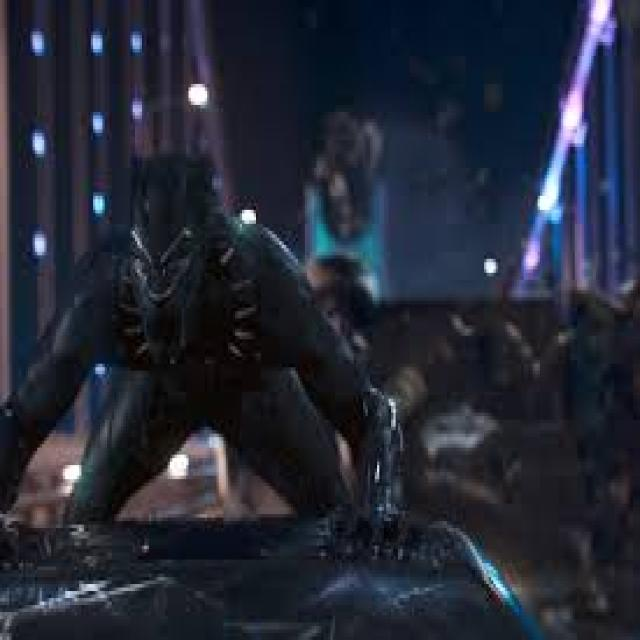Object-Detection: (0, 0, 638, 637)
